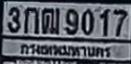0: (81, 8, 93, 34)
1: (99, 8, 109, 35)
3: (8, 6, 20, 32)
7: (112, 8, 126, 35)
9: (64, 7, 79, 35)
A01: (23, 6, 38, 33)
A18: (41, 7, 59, 33)
BKK: (17, 40, 114, 60)
